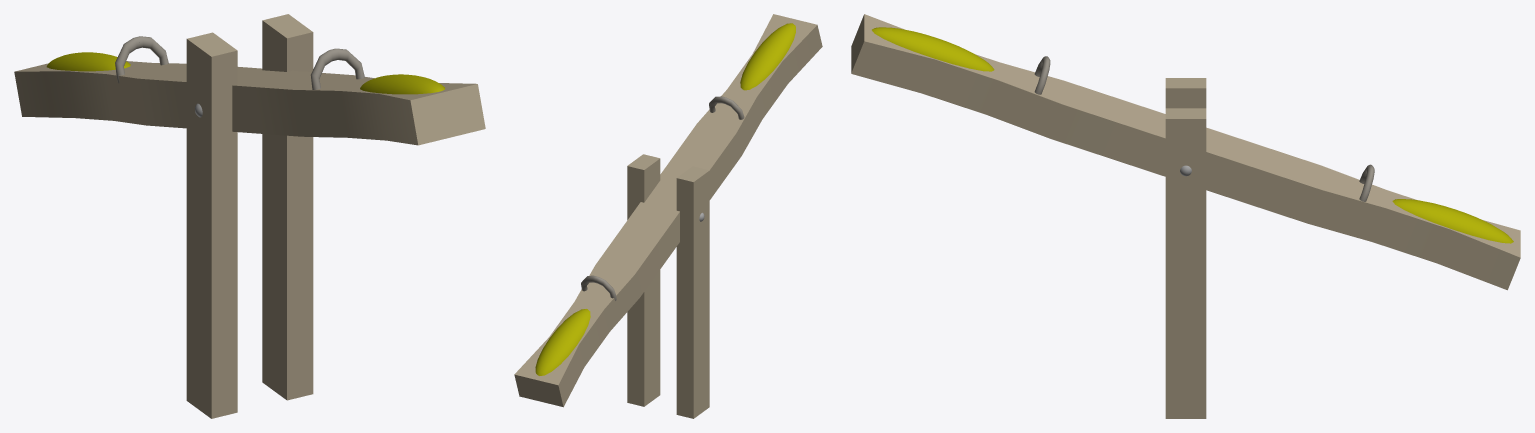
Rendered from Seesaw.fbx.
3 renders of one model, left to right at view 1: azimuth 30°, elevation 25°; view 2: azimuth 150°, elevation 25°; view 3: azimuth 270°, elevation 25°, orthographic. The views are drawn at different scales.
Visible parts, largest first — view 1: pCube140, pCube142, pCube141, pSphere5, pSphere4, pCylinder24 (×2); view 2: pCube140, pCube142, pCube141, pSphere5, pSphere4; view 3: pCube140, pCube141, pSphere5, pSphere4, pCube142.
Part boxes in pixels (x1,y1,x2,y2): pCube140: (14, 61, 485, 145); pCube142: (186, 32, 237, 418); pCube141: (262, 14, 313, 400); pSphere5: (360, 74, 444, 94); pSphere4: (46, 52, 130, 71); pCylinder24 (×2): (115, 37, 335, 89); pCube140: (514, 14, 822, 407); pCube142: (676, 166, 709, 418); pCube141: (627, 154, 660, 406); pSphere5: (740, 23, 795, 90); pSphere4: (535, 309, 590, 375); pCube140: (851, 14, 1520, 290); pCube141: (1165, 108, 1206, 418); pSphere5: (872, 27, 994, 71); pSphere4: (1392, 199, 1513, 243); pCube142: (1165, 78, 1206, 108).
Bounding box in the file's own units: 14.3 × 56.59 × 92.62.
